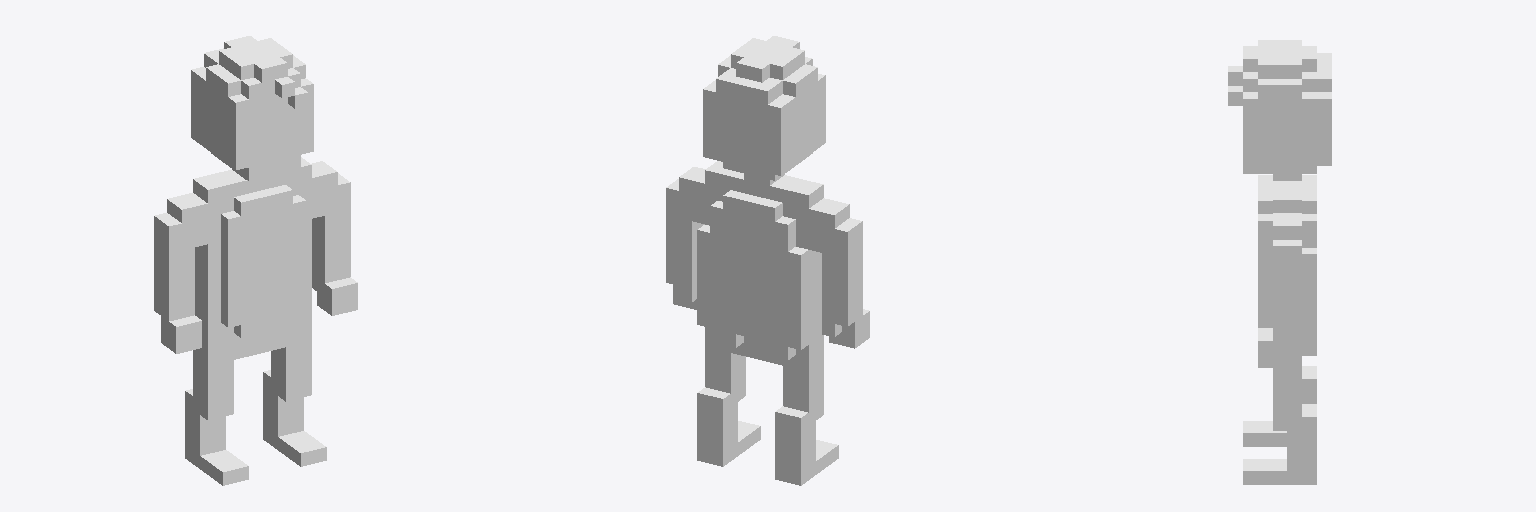
Rendered from CustomerModels1.obj.
3 views of the same model, side by side, from view 1: azimuth 30°, elevation 25°; view 2: azimuth 150°, elevation 25°; view 3: azimuth 270°, elevation 25° (orthographic).
Visible parts, largest first — view 1: object 1; view 2: object 1; view 3: object 1.
Boxes of the visible parts, x1=… form: object 1: x1=154, y1=36, x2=357, y2=485; object 1: x1=666, y1=36, x2=869, y2=485; object 1: x1=1228, y1=40, x2=1331, y2=484.
Size of the model in its own units: 1.4 by 3 by 0.7.